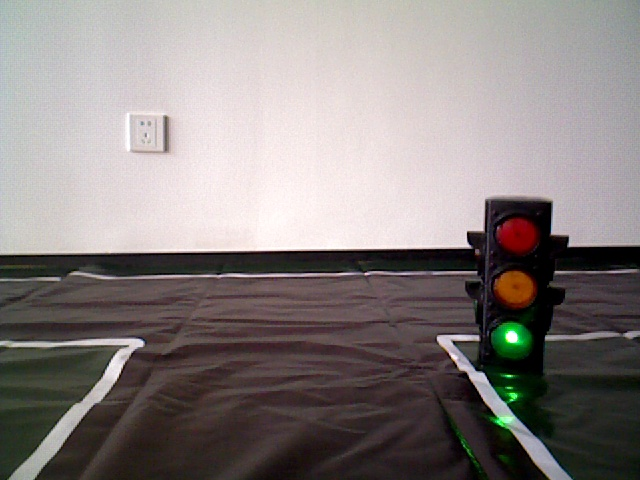green: (487, 205, 543, 363)
